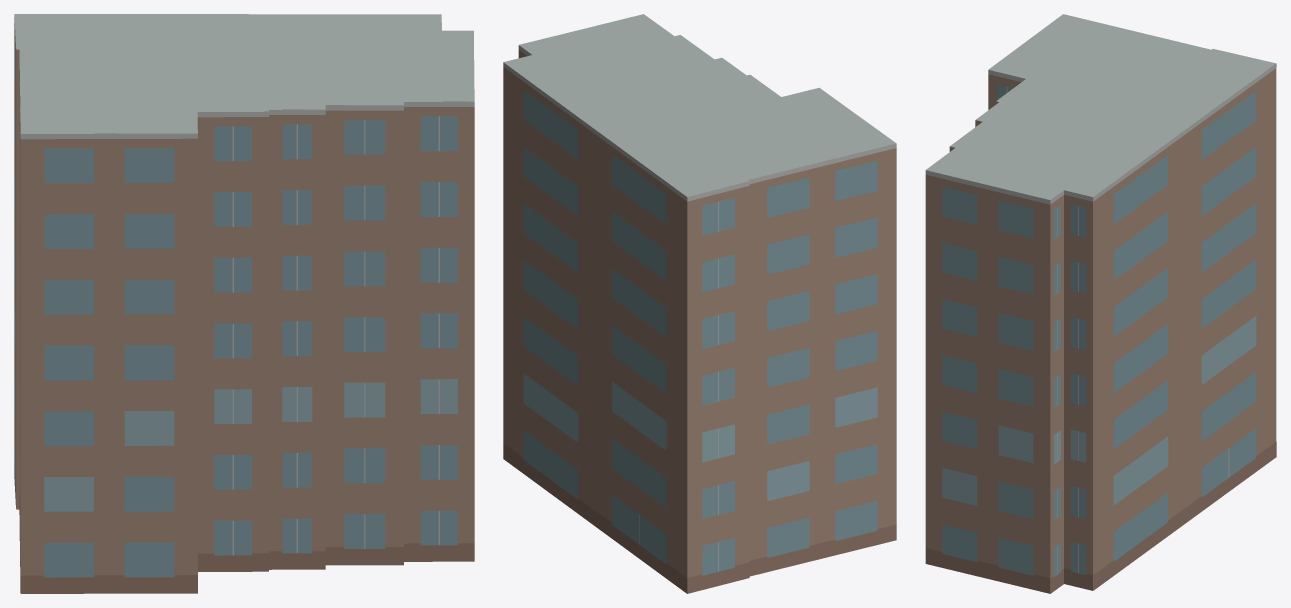
The model's file is survey-upis-32912592.glb.
3 renders of one model, left to right at view 1: azimuth 30°, elevation 25°; view 2: azimuth 150°, elevation 25°; view 3: azimuth 270°, elevation 25°, orthographic. The views are drawn at different scales.
Visible parts, largest first — view 1: survey-upis-32912592.tmp; view 2: survey-upis-32912592.tmp; view 3: survey-upis-32912592.tmp.
Part boxes in pixels (bbox=[...]): survey-upis-32912592.tmp: bbox=[14, 14, 474, 593]; survey-upis-32912592.tmp: bbox=[503, 14, 896, 593]; survey-upis-32912592.tmp: bbox=[925, 14, 1276, 593].
Bounding box in the file's own units: 21.66 × 21.35 × 17.25.
